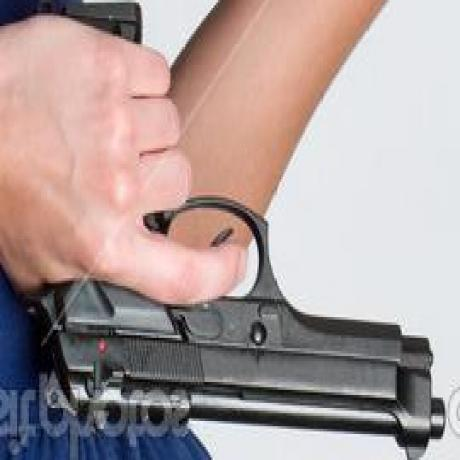weapon: (37, 170, 450, 448)
